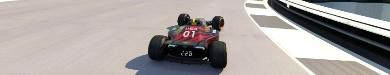Car: (147, 13, 227, 67)
Solid White and black: (242, 0, 389, 74)
